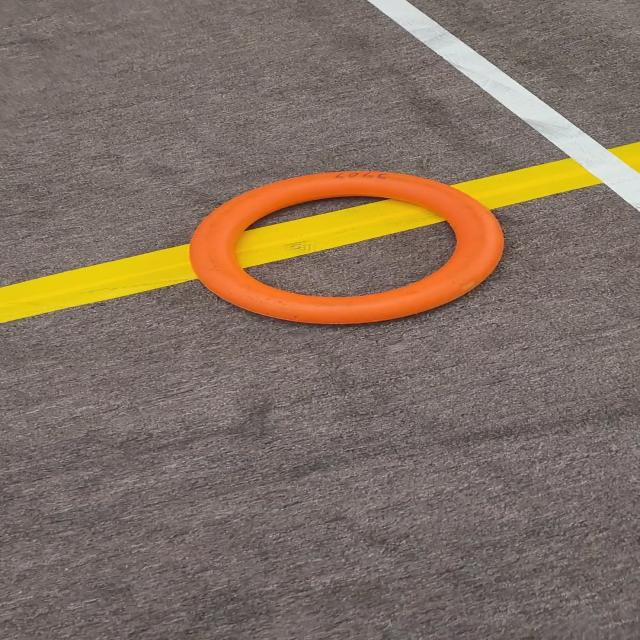note: (183, 167, 520, 331)
